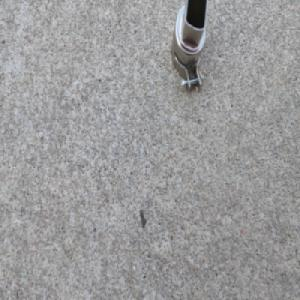MetalPart: (169, 0, 208, 97)
